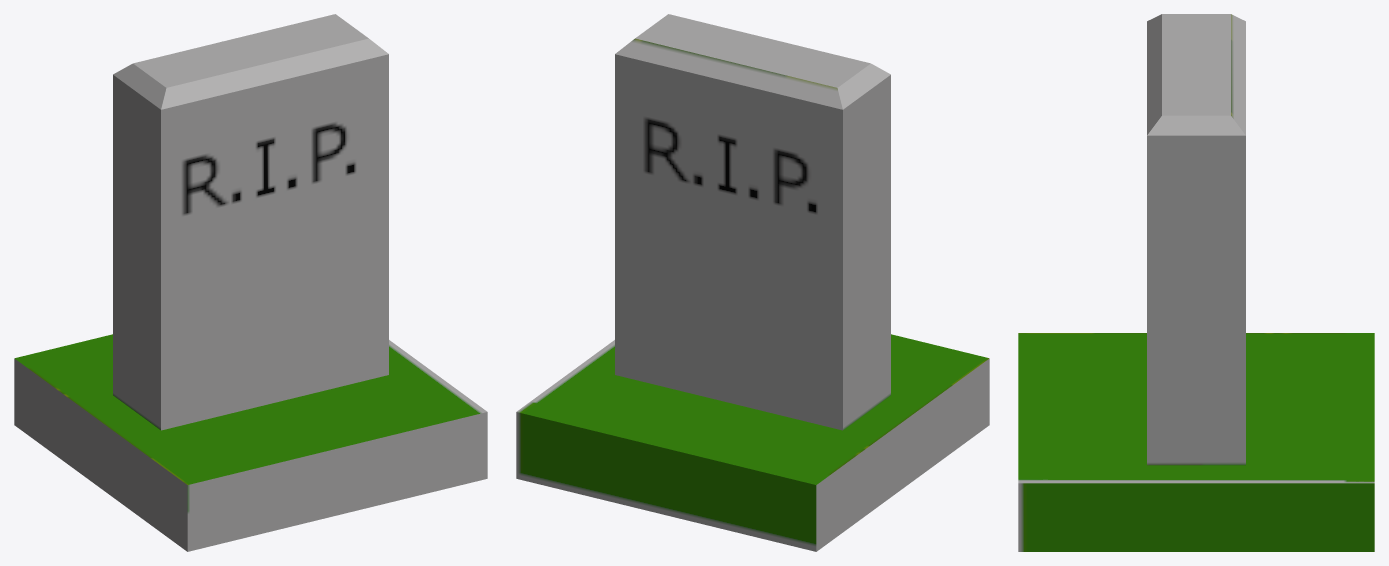
File: gravestone.obj
3 views of the same model, side by side, from view 1: azimuth 30°, elevation 25°; view 2: azimuth 150°, elevation 25°; view 3: azimuth 270°, elevation 25° (orthographic). The views are drawn at different scales.
Parts seen in each view (by area): view 1: Cube; view 2: Cube; view 3: Cube.
Part boxes in pixels (x1,y1,x2,y2): Cube: [14, 14, 487, 551]; Cube: [516, 14, 989, 551]; Cube: [1018, 14, 1374, 551].
Size of the model in its own units: 2 by 2.55 by 2.
Materials: 1 (1 with a texture image).
